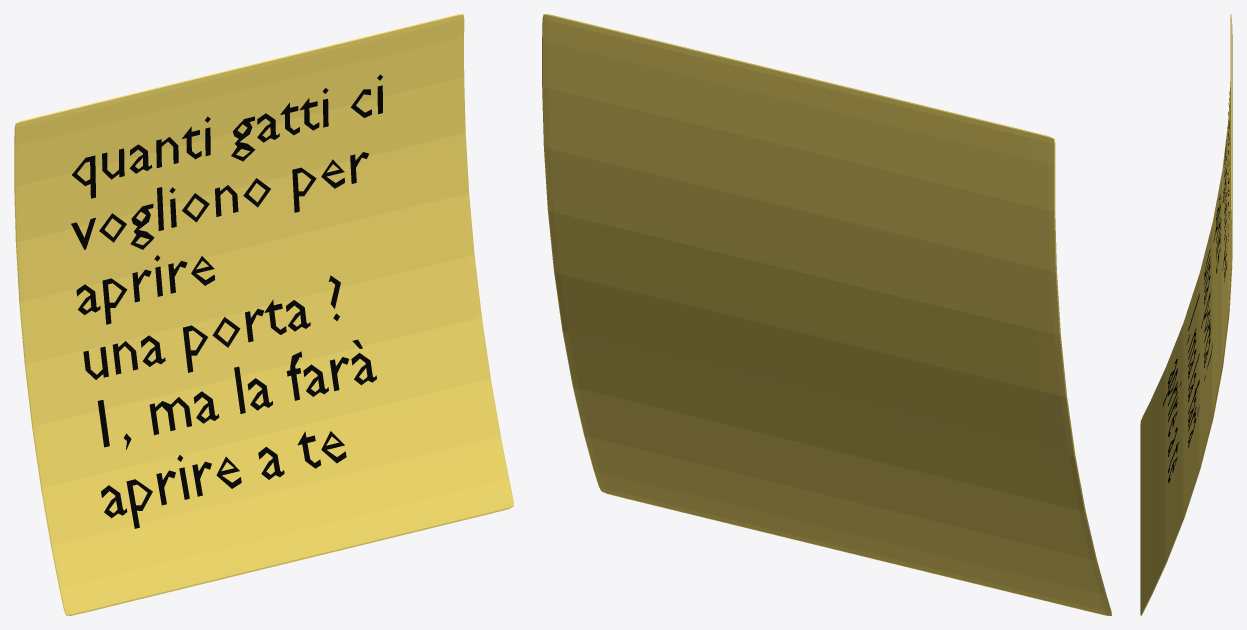
File: post-itFreddura nuovo.fbx
3 renders of one model, left to right at view 1: azimuth 30°, elevation 25°; view 2: azimuth 150°, elevation 25°; view 3: azimuth 270°, elevation 25°, orthographic. The views are drawn at different scales.
Parts seen in each view (by area): view 1: Cube, freddura.002; view 2: Cube; view 3: Cube, freddura.002.
Boxes of the visible parts, left/top/right/bottom form: Cube: left=14, top=14, right=513, bottom=615; freddura.002: left=71, top=74, right=382, bottom=528; Cube: left=542, top=14, right=1111, bottom=615; Cube: left=1140, top=14, right=1232, bottom=615; freddura.002: left=1163, top=91, right=1229, bottom=482.
Size of the model in its own units: 896 by 872 by 178.
